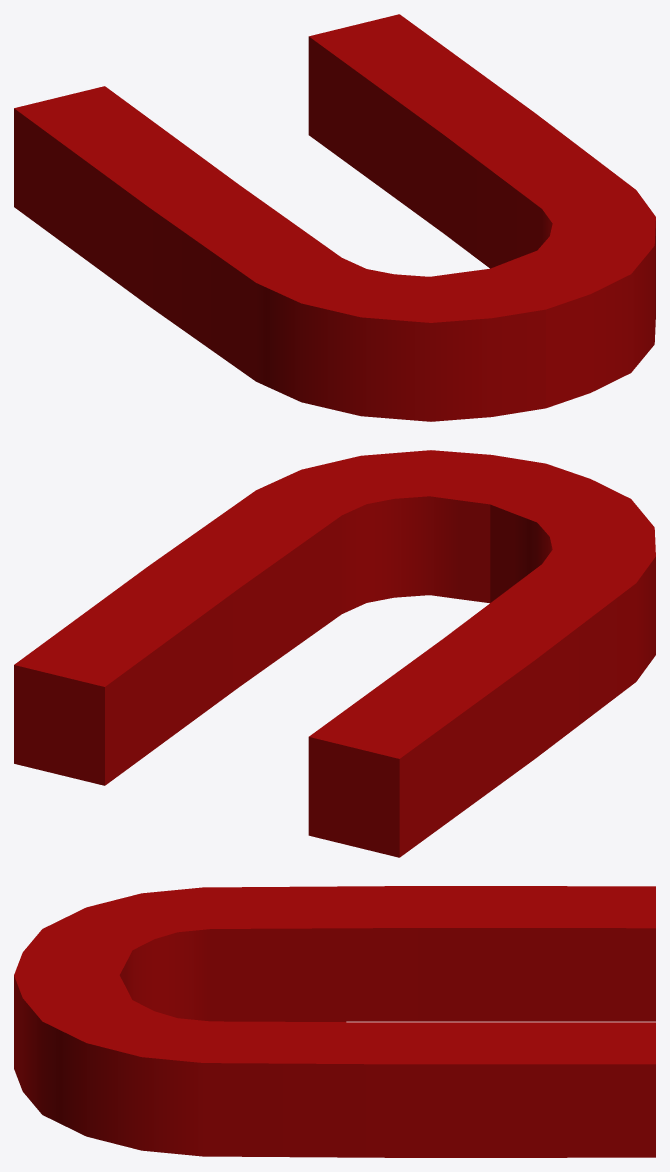
Rendered from Magnet.fbx.
3 views of the same model, one above another, from view 1: azimuth 30°, elevation 25°; view 2: azimuth 150°, elevation 25°; view 3: azimuth 270°, elevation 25° (orthographic). The views are drawn at different scales.
Visible parts, largest first — view 1: Magnet; view 2: Magnet; view 3: Magnet.
Part boxes in pixels (<box>): Magnet: <box>14,14,655,421</box>; Magnet: <box>14,450,655,857</box>; Magnet: <box>14,886,655,1157</box>.
Size of the model in its own units: 4.85 by 1.19 by 7.38.
